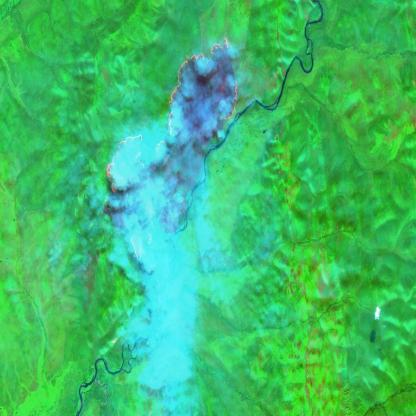fire: (103, 32, 243, 202)
